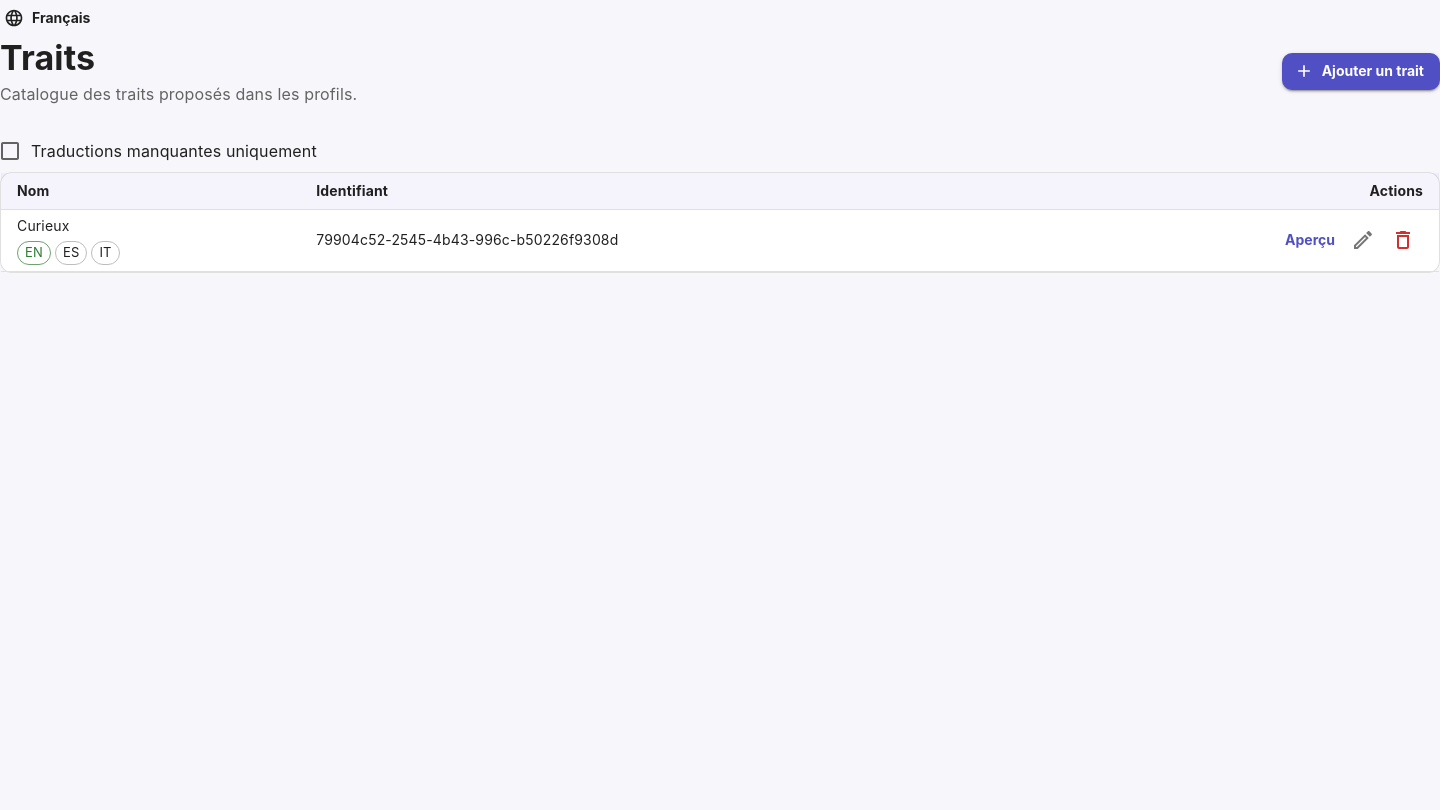
Test: translates untouched default names and preserves canonical French catalogue edits across language switches
Click the button named "Renommer Curieux".
click(1363, 240)  # box [1343,220,1383,260]
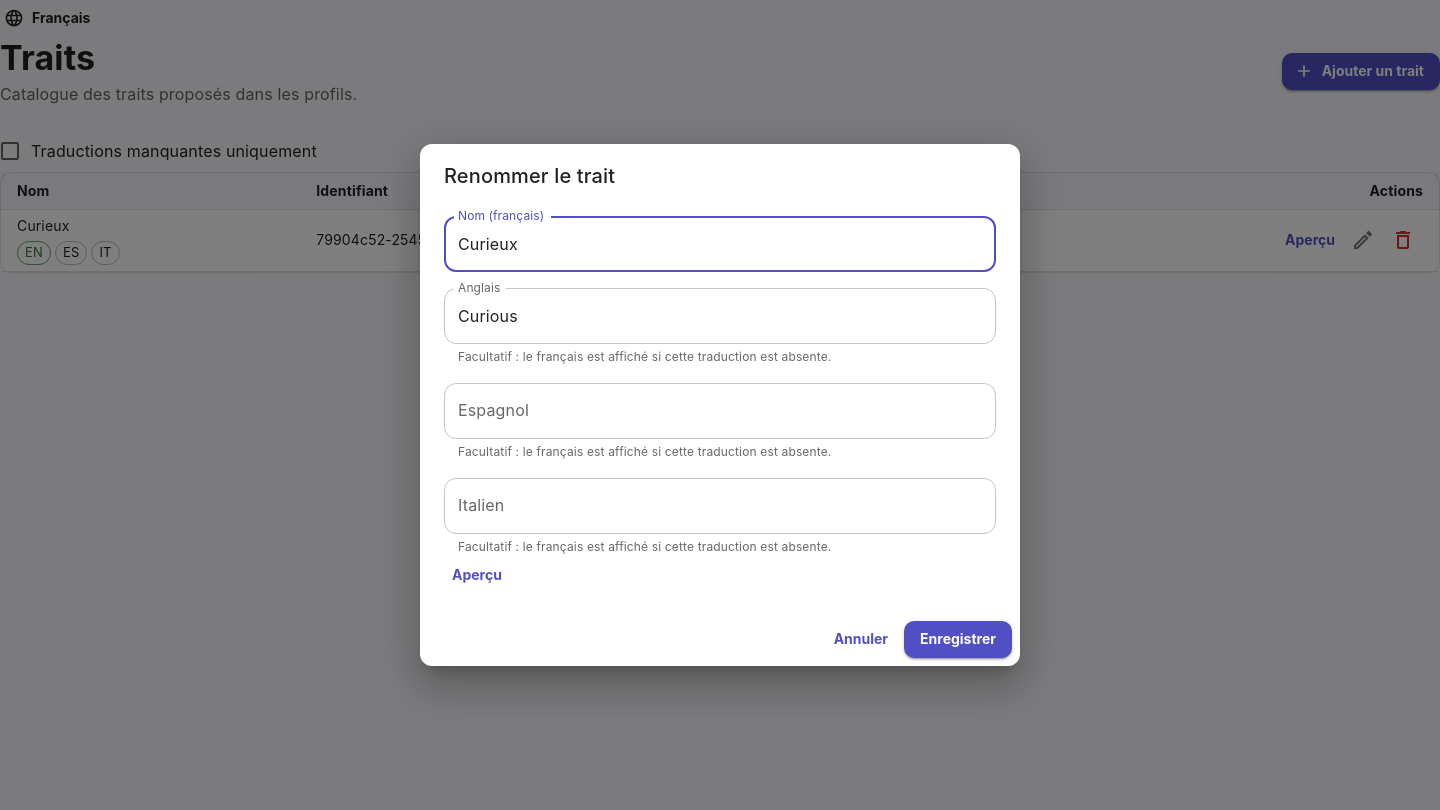
Replace the text in the field labelled "Nom (français)" with "Mon brouillon" at (720, 244), box [444,216,996,272]
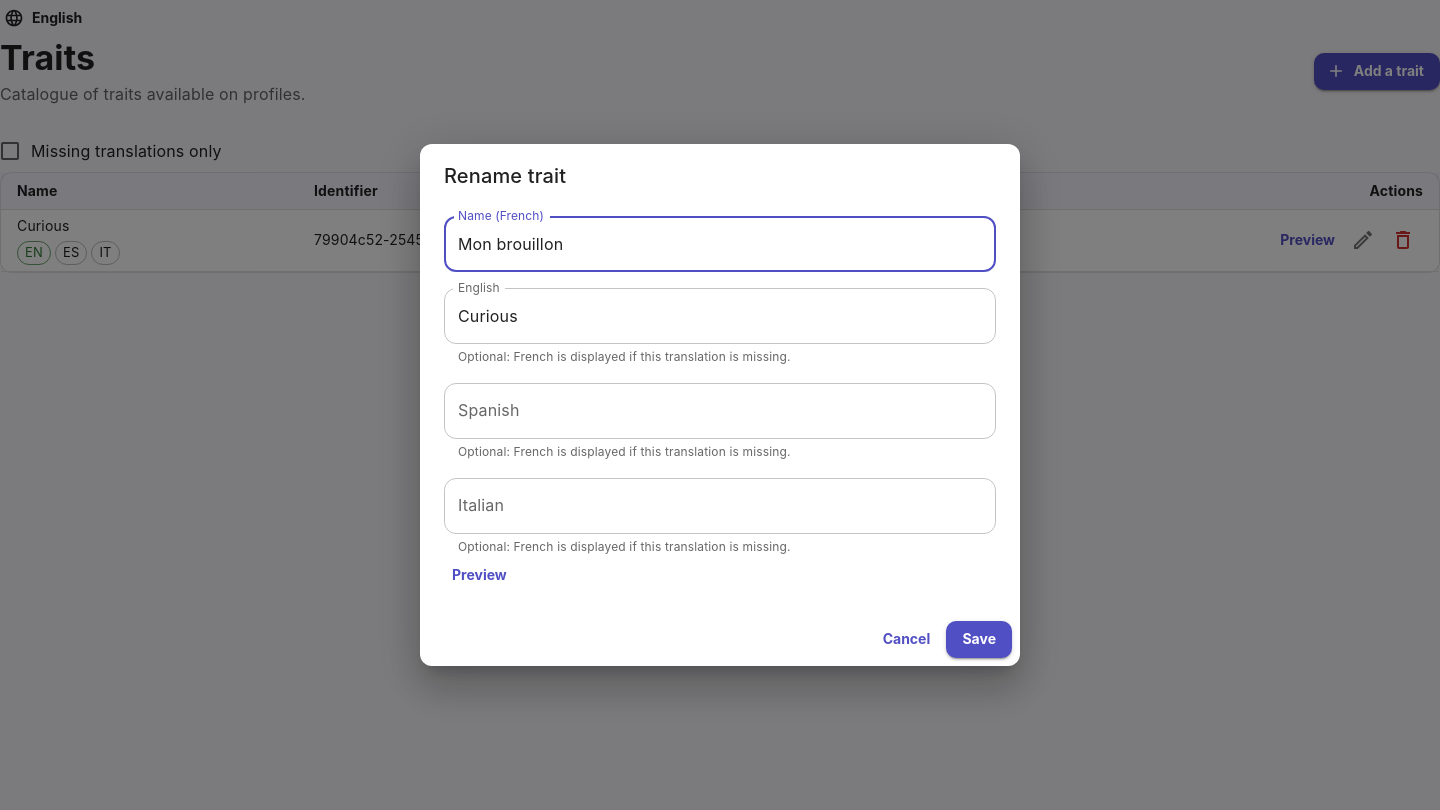
Now the button "Save" is shown, box [946,621,1012,658]
